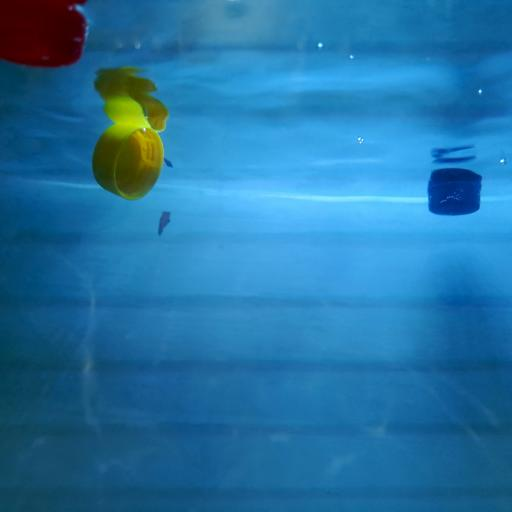bottle_cap: (89, 120, 165, 202), (2, 2, 88, 70), (428, 168, 480, 216)
